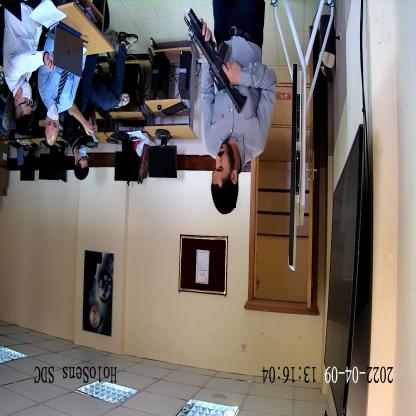handgun: (180, 3, 249, 112)
